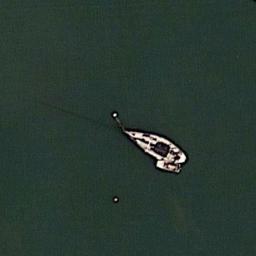boat: (119, 123, 187, 172)
